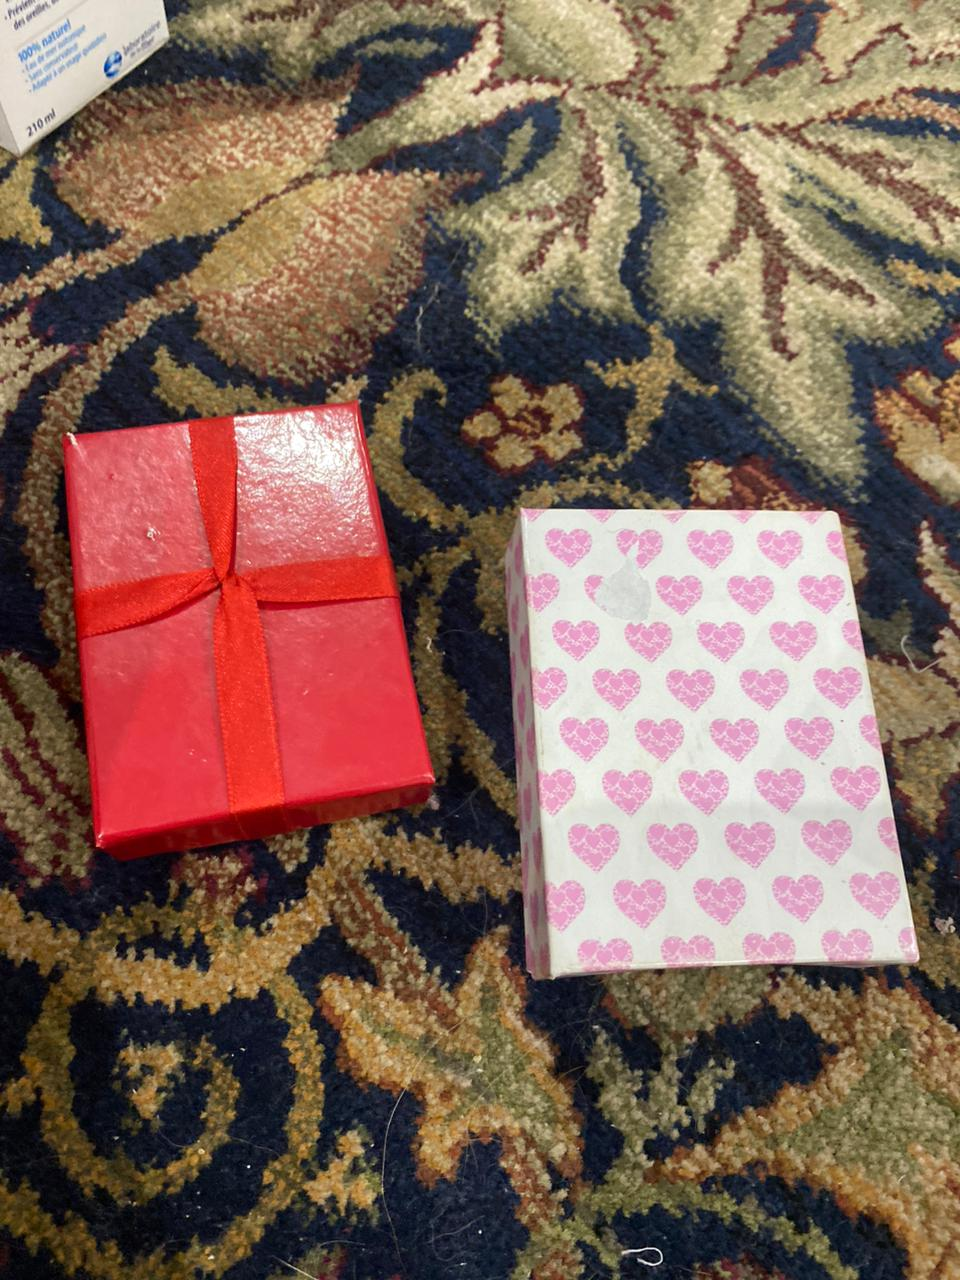Black Box: (57, 393, 445, 861)
Physiomer: (5, 5, 173, 160)
Pink Box: (499, 502, 930, 987)
